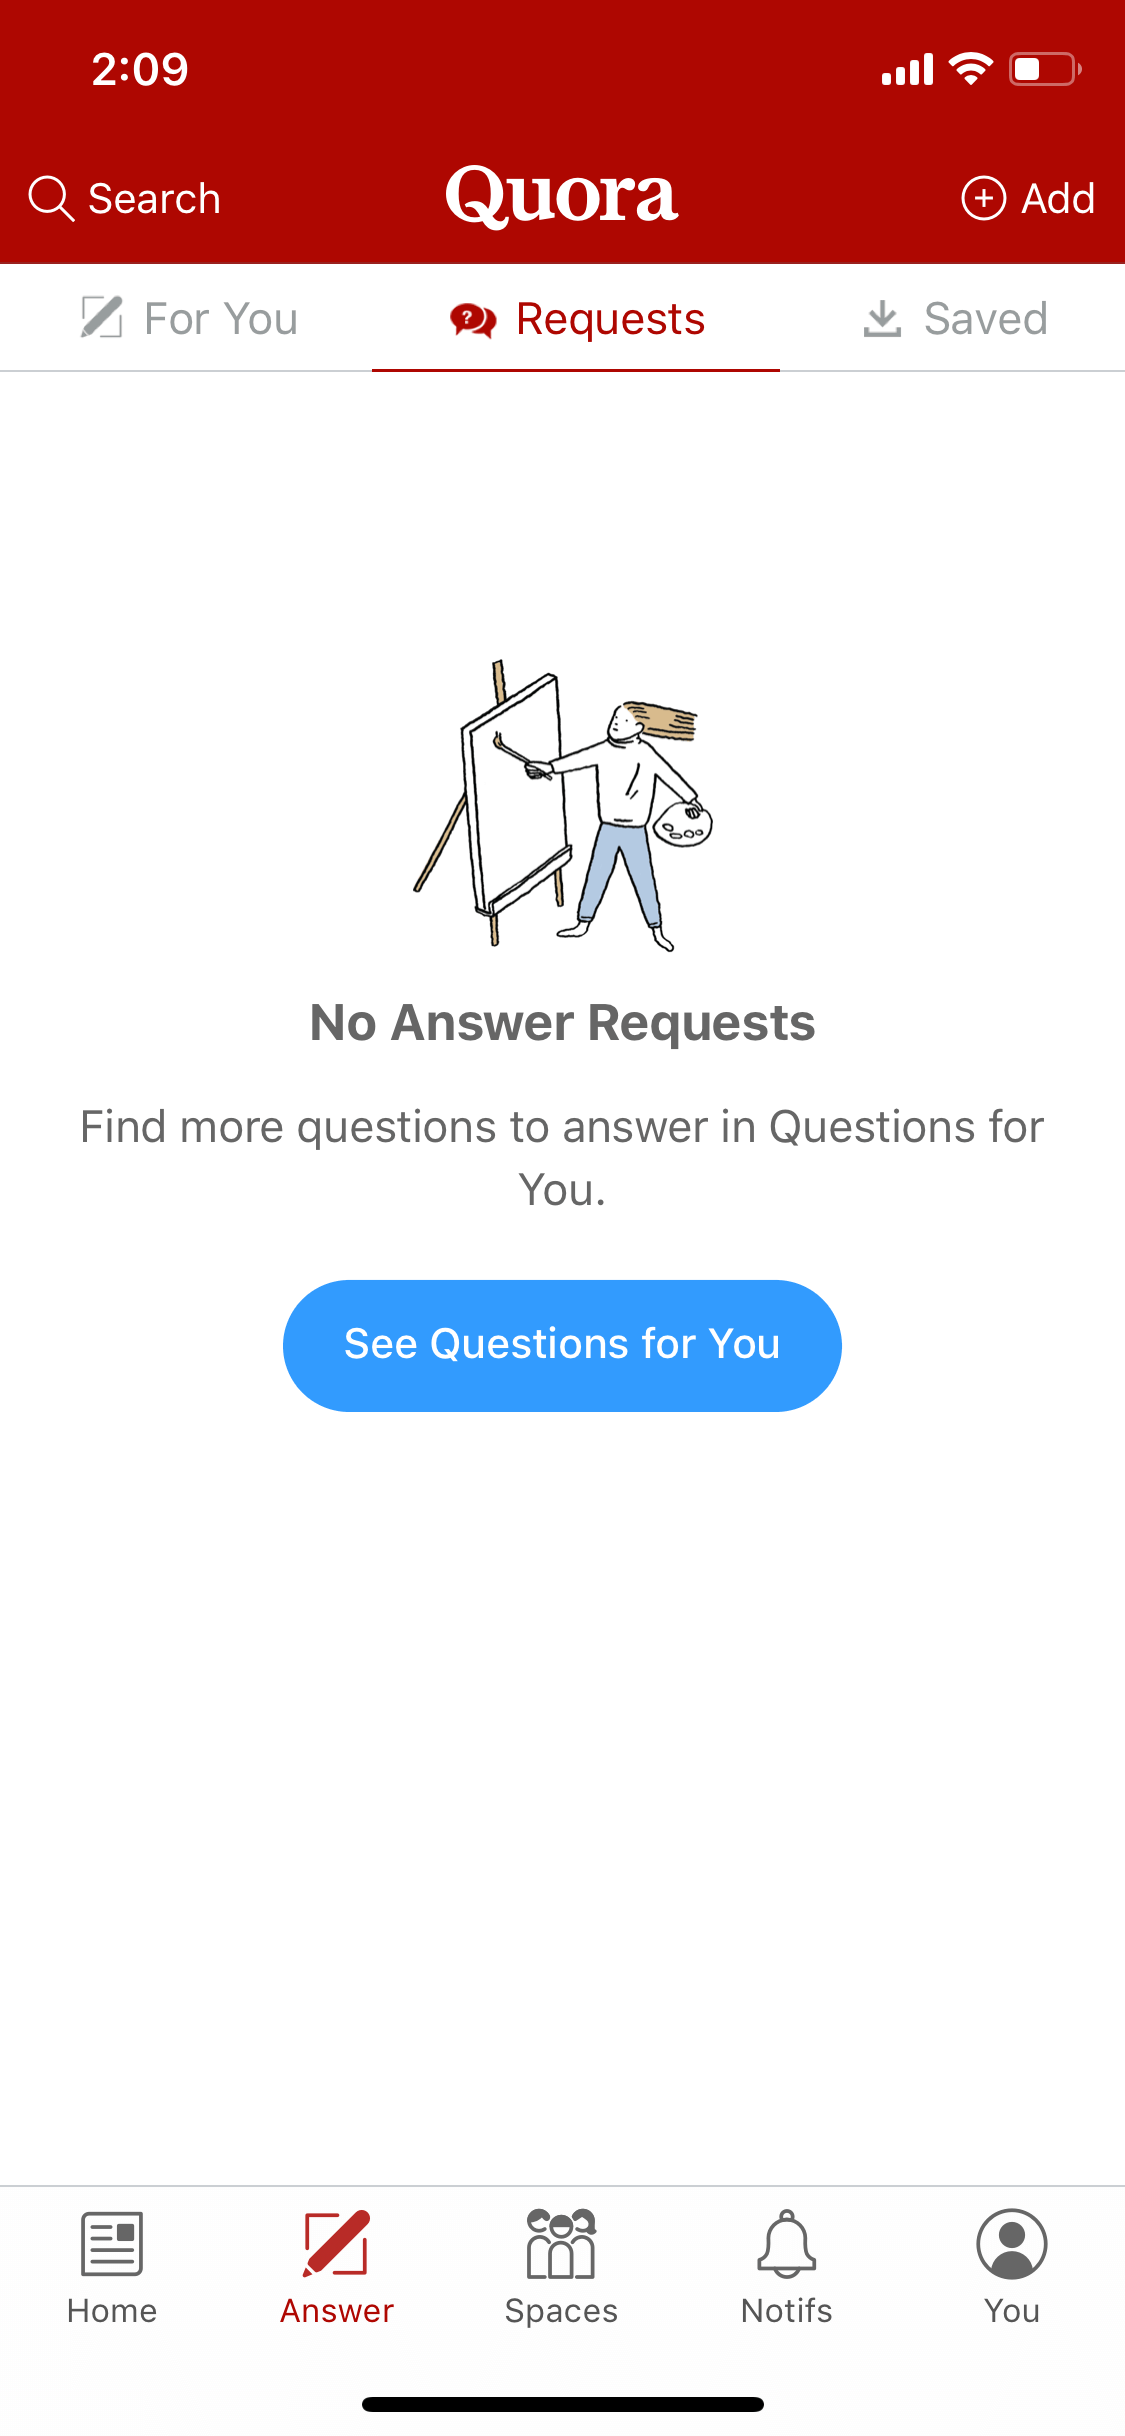Buttons: (261, 1255, 855, 1435), (8, 134, 233, 249), (914, 137, 1109, 245)
